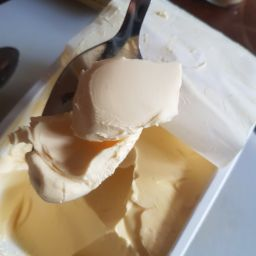Butter: (4, 75, 207, 256), (17, 34, 185, 207)
